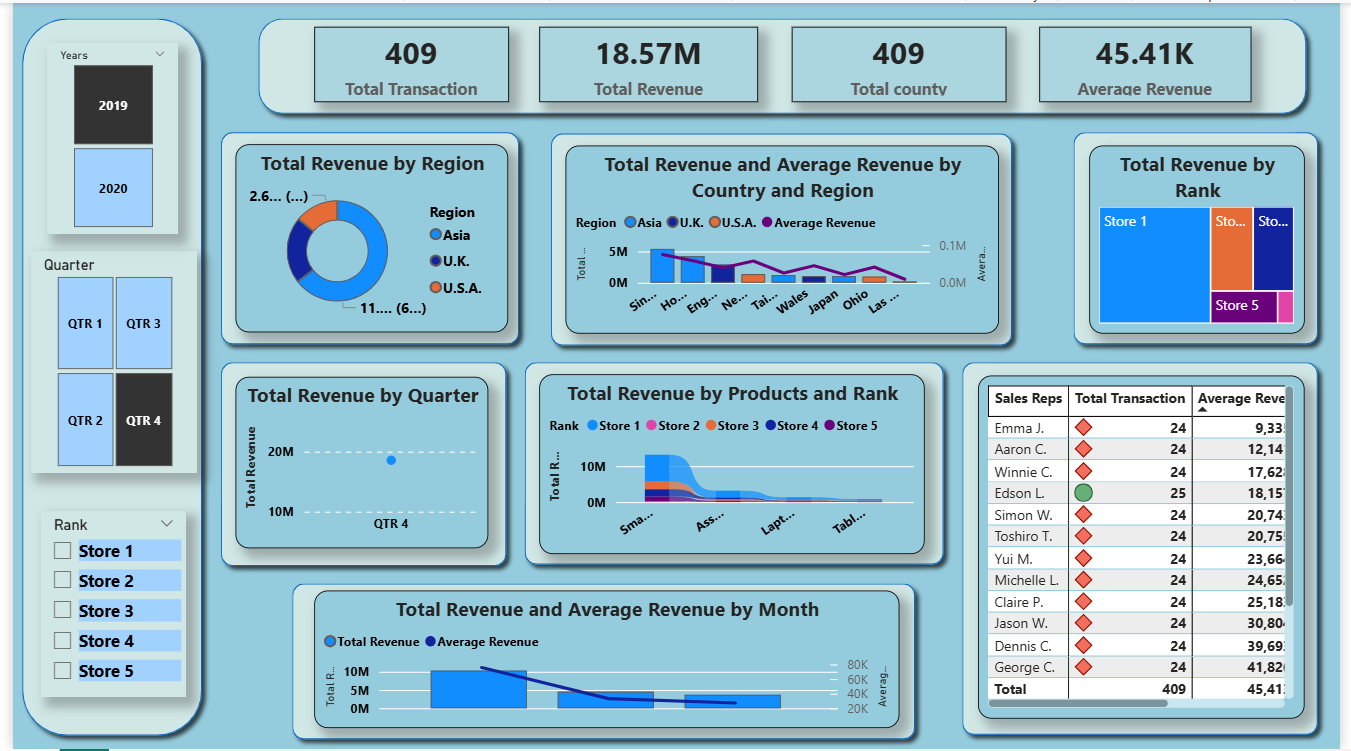

Layout of this report page (visuals, bound fields, positions):
{"tool":"powerbi","page":{"name":"Page 1","canvas":[1280,720],"ordinal":0},"visuals":[{"type":"shape","box":[0,5.4,191.4,710.1],"z":0},{"type":"shape","box":[191.4,338.1,293.3,214.5],"z":1000},{"type":"shape","box":[227.8,5.5,1029.2,109.8],"z":2000},{"type":"card","fields":{"Values":["Measure.Total Transaction"]},"box":[290.9,23.3,188,72.7],"z":3000},{"type":"card","fields":{"Values":["Measure.Total Revenue"]},"box":[507.7,23.3,211.3,72.7],"z":4000},{"type":"card","fields":{"Values":["Measure.Total county"]},"box":[752,23.3,207.2,72.7],"z":5000},{"type":"card","fields":{"Values":["Measure.Average Revenue"]},"box":[990.7,23.3,204.5,72.7],"z":6000},{"type":"shape","box":[191.4,115.4,305.5,222.7],"z":7000},{"type":"donutChart","fields":{"Y":["Measure.Total Revenue"],"Category":["Sheet1.Region"]},"box":[214.5,135.8,263.4,181.9],"z":8000},{"type":"shape","box":[510.5,116.8,463,222.7],"z":9000},{"type":"lineStackedColumnComboChart","fields":{"Category":["Sheet1.Country"],"Y":["Measure.Total Revenue"],"Y2":["Measure.Average Revenue"],"Series":["Sheet1.Region"]},"box":[533.6,137.1,418.2,181.9],"z":10000},{"type":"shape","box":[1014.2,115.4,253.9,222.7],"z":11000},{"type":"areaChart","fields":{"Y":["Measure.Total Revenue"],"Category":["Sheet1.Quarter"]},"box":[214.5,361.1,244.4,165.6],"z":12000},{"type":"treemap","fields":{"Values":["Measure.Total Revenue"],"Group":["Sheet1.Rank"]},"box":[1038.6,137.1,207.7,181.9],"z":13000},{"type":"shape","box":[484.7,338.1,422.2,213.2],"z":14000},{"type":"ribbonChart","fields":{"Category":["Sheet1.Products"],"Y":["Measure.Total Revenue"],"Series":["Sheet1.Rank"]},"box":[507.8,358.4,372,173.8],"z":15000},{"type":"shape","box":[906.9,338.1,361.1,377.4],"z":16000},{"type":"pivotTable","fields":{"Rows":["Sheet1.Sales Reps"],"Values":["Measure.Total Transaction","Measure.Average Revenue","Measure.Total Revenue"]},"box":[931.4,359.8,315,331.3],"z":17000},{"type":"shape","box":[260.7,551.2,619.1,168.4],"z":18000},{"type":"lineStackedColumnComboChart","fields":{"Y":["Measure.Total Revenue"],"Y2":["Measure.Average Revenue"],"Category":["Sheet1.Month"]},"box":[290.5,567.5,564.8,133.1],"z":19000},{"type":"slicer","fields":{"Values":["Sheet1.Years"]},"box":[32.6,38.6,126.7,184.6],"z":20000},{"type":"slicer","fields":{"Values":["Sheet1.Quarter"]},"box":[16.9,238.9,160.5,214.7],"z":21000},{"type":"slicer","fields":{"Values":["Sheet1.Rank"]},"box":[26.5,489.8,141.2,179.8],"z":22000}]}

Visuals, with their boxes in screenshot pixels (x1, y1, x2, y2), scaled from the page's 1280x720 canvas onto the 1351x751 screenshot:
shape: bbox=(0, 6, 202, 746)
shape: bbox=(202, 353, 512, 576)
shape: bbox=(240, 6, 1327, 120)
card - Measure.Total Transaction: bbox=(307, 24, 505, 100)
card - Measure.Total Revenue: bbox=(536, 24, 759, 100)
card - Measure.Total county: bbox=(794, 24, 1012, 100)
card - Measure.Average Revenue: bbox=(1046, 24, 1261, 100)
shape: bbox=(202, 120, 524, 353)
donutChart - Measure.Total Revenue x Sheet1.Region: bbox=(226, 142, 504, 331)
shape: bbox=(539, 122, 1027, 354)
lineStackedColumnComboChart - Sheet1.Country x Measure.Total Revenue: bbox=(563, 143, 1005, 333)
shape: bbox=(1070, 120, 1338, 353)
areaChart - Measure.Total Revenue x Sheet1.Quarter: bbox=(226, 377, 484, 549)
treemap - Measure.Total Revenue x Sheet1.Rank: bbox=(1096, 143, 1315, 333)
shape: bbox=(512, 353, 957, 575)
ribbonChart - Sheet1.Products x Measure.Total Revenue: bbox=(536, 374, 929, 555)
shape: bbox=(957, 353, 1338, 746)
pivotTable - Sheet1.Sales Reps x Measure.Total Transaction: bbox=(983, 375, 1316, 721)
shape: bbox=(275, 575, 929, 750)
lineStackedColumnComboChart - Measure.Total Revenue x Measure.Average Revenue: bbox=(307, 592, 903, 731)
slicer - Sheet1.Years: bbox=(34, 40, 168, 233)
slicer - Sheet1.Quarter: bbox=(18, 249, 187, 473)
slicer - Sheet1.Rank: bbox=(28, 511, 177, 698)
